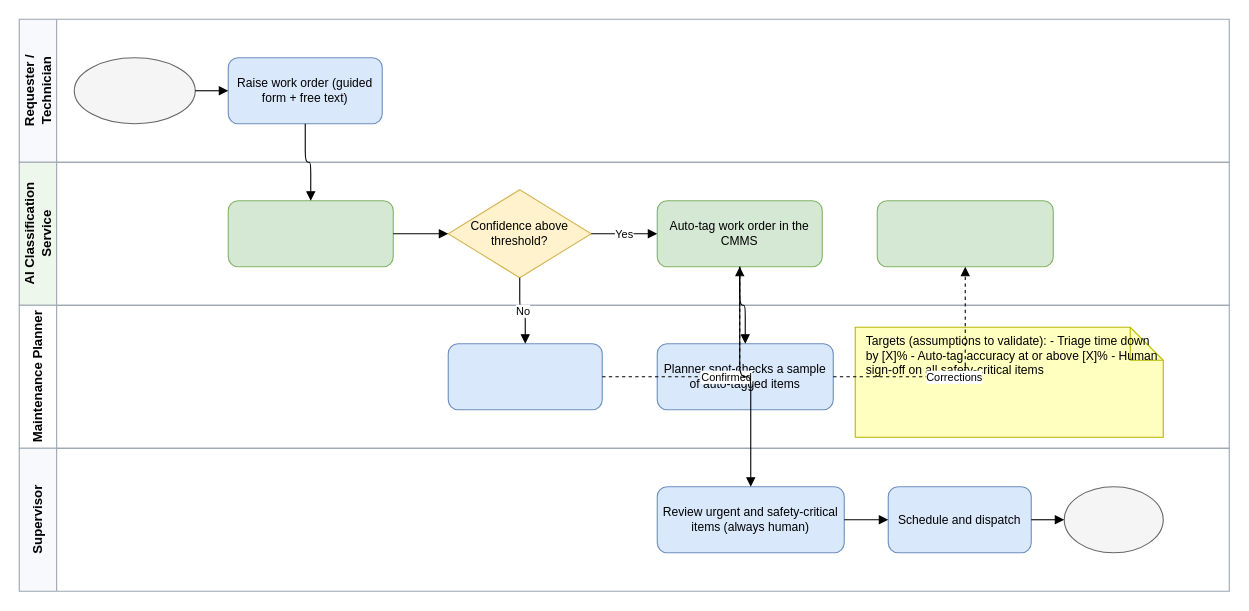
The diagram is 1249 pixels wide and 611 high, and some of its shapes have lost their labels. Here are the shapes that lost their labels. From the top down, the centre of each, then its label:
the point at 134,90: Equipment issue found
the point at 310,233: AI suggests type, priority and a confidence score
the point at 964,233: Corrections feed back to improve the model
the point at 524,376: Planner reviews low-confidence items
the point at 1113,519: Work completed
